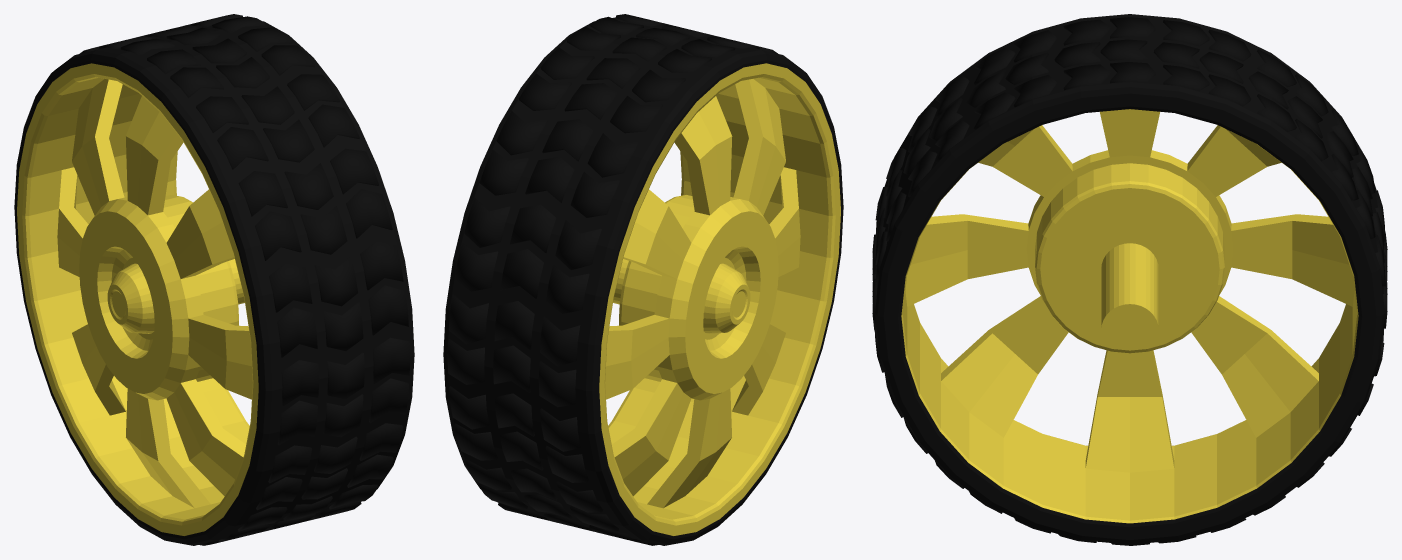
Rendered from bot_wheel_R.gltf.
3 renders of one model, left to right at view 1: azimuth 30°, elevation 25°; view 2: azimuth 150°, elevation 25°; view 3: azimuth 270°, elevation 25°, orthographic.
Visible parts, largest first — view 1: Actor.Wheel.R; view 2: Actor.Wheel.R; view 3: Actor.Wheel.R.
Boxes of the visible parts, <box> form: Actor.Wheel.R: <box>14,14,414,545</box>; Actor.Wheel.R: <box>443,14,843,545</box>; Actor.Wheel.R: <box>872,14,1387,545</box>.
Size of what is drawn, in the model's own units: 0.7877 by 1.75 by 1.75.
